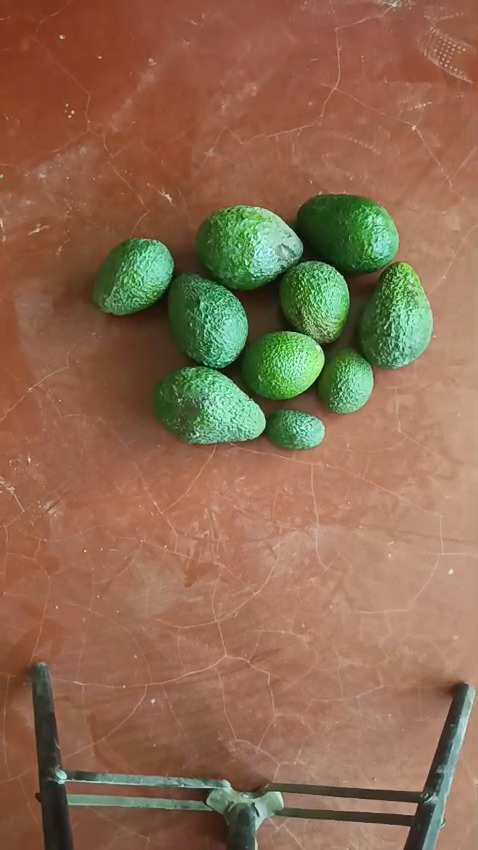Primera: (195, 206, 303, 291), (151, 366, 264, 443), (295, 194, 399, 275), (358, 262, 433, 369), (167, 272, 250, 367)
Segunda: (92, 238, 174, 316), (279, 260, 351, 344), (240, 331, 324, 400)
Tercera: (316, 349, 373, 414), (264, 409, 324, 450)
